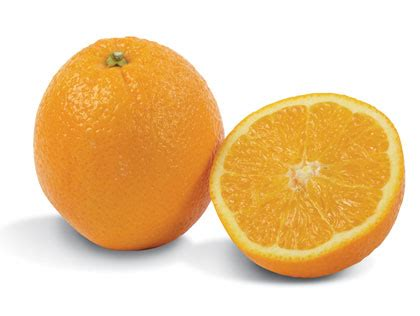orange: (30, 33, 227, 252)
